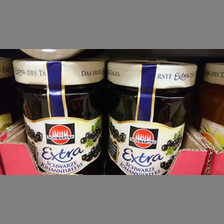jam: (106, 59, 198, 174), (13, 59, 105, 174)
